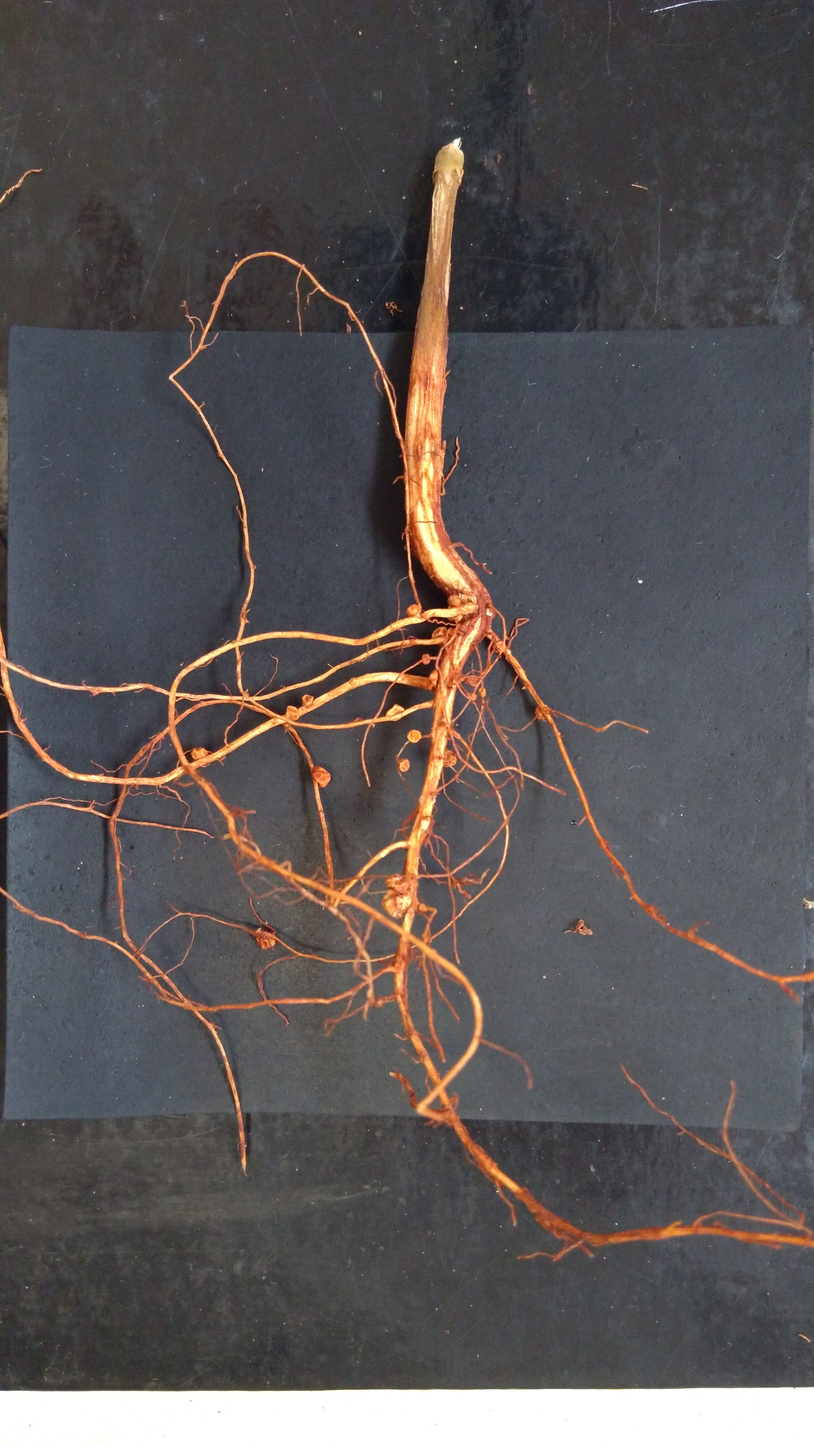nodule: (381, 888, 412, 920), (189, 745, 213, 769), (310, 765, 332, 788), (255, 930, 277, 951), (385, 873, 410, 891), (384, 703, 406, 721), (533, 702, 552, 722), (442, 748, 458, 770), (405, 603, 424, 618), (285, 704, 300, 722), (406, 728, 422, 744), (426, 669, 440, 687), (429, 625, 449, 637), (446, 593, 463, 607), (398, 758, 412, 774), (300, 693, 315, 707), (447, 610, 463, 623), (494, 640, 506, 653), (421, 652, 432, 666), (478, 687, 487, 697), (470, 692, 477, 701)
